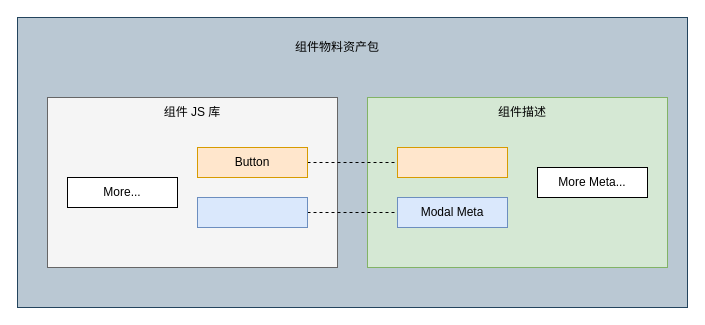
Image size: 705x325. Some labels were removed from this diagram. The shapes that lost their labels are listed below. From the top down, each one's box as (x1, y1, x2, y2) in pixels, then its label:
(396, 146, 508, 178): Button Meta
(196, 196, 308, 228): Modal
